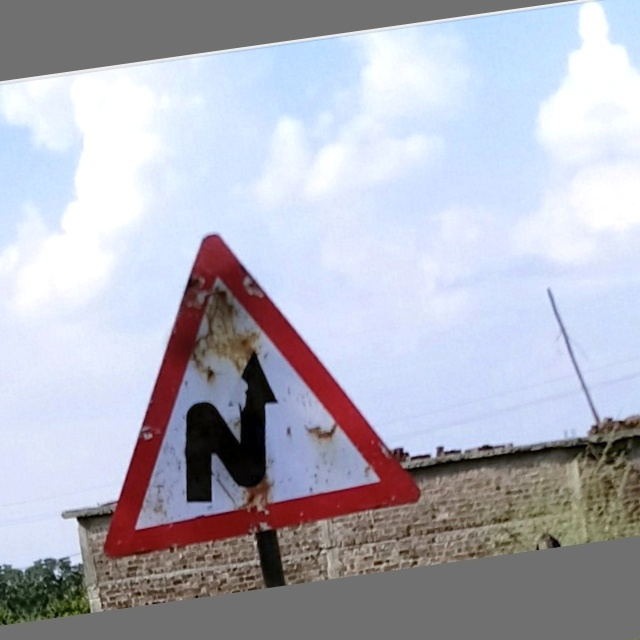Right_Reverse_Bend: (63, 213, 428, 556)
